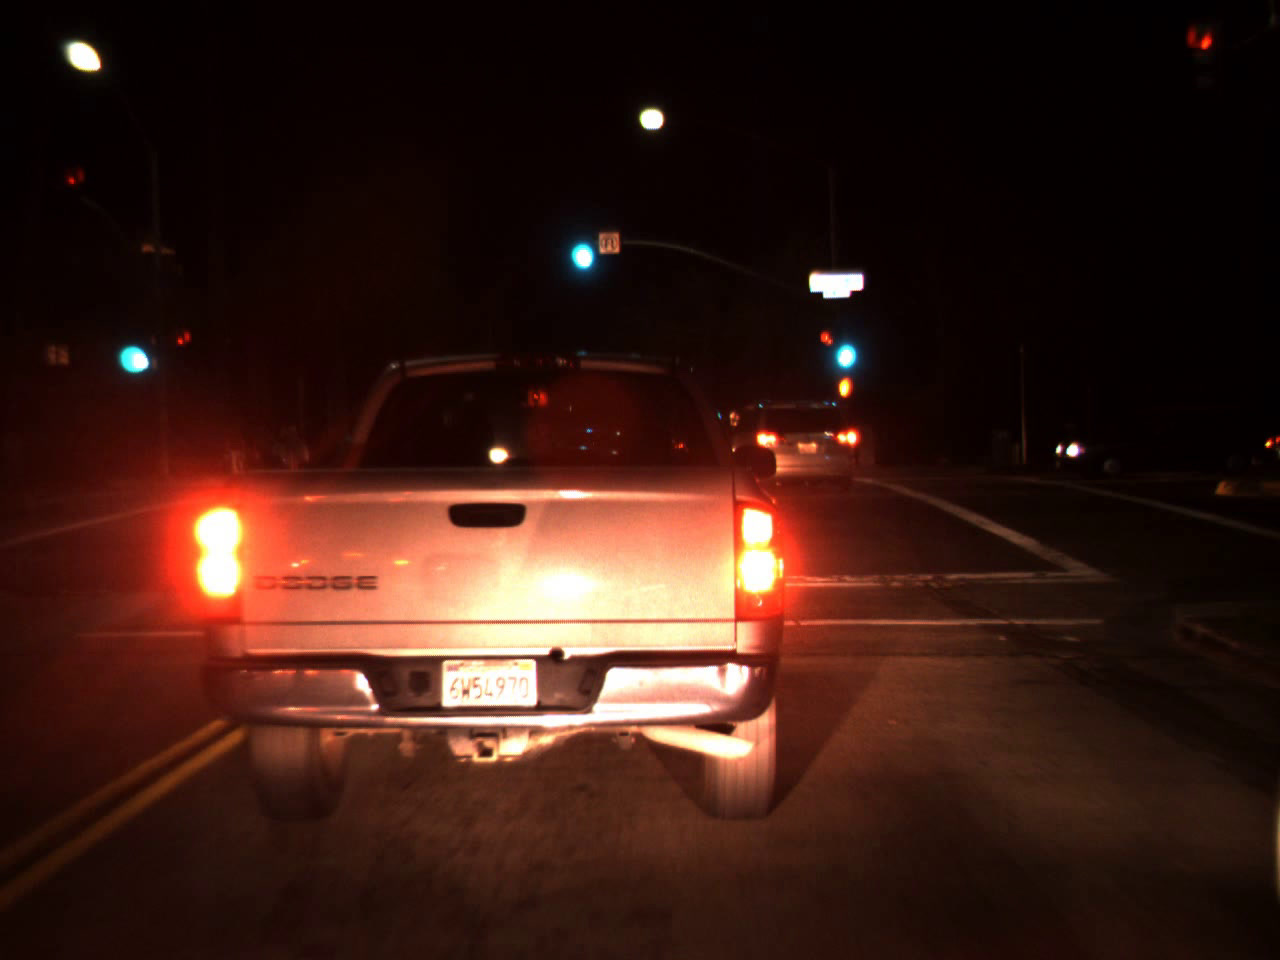go: (110, 312, 153, 384), (561, 210, 598, 279), (827, 313, 861, 379)
